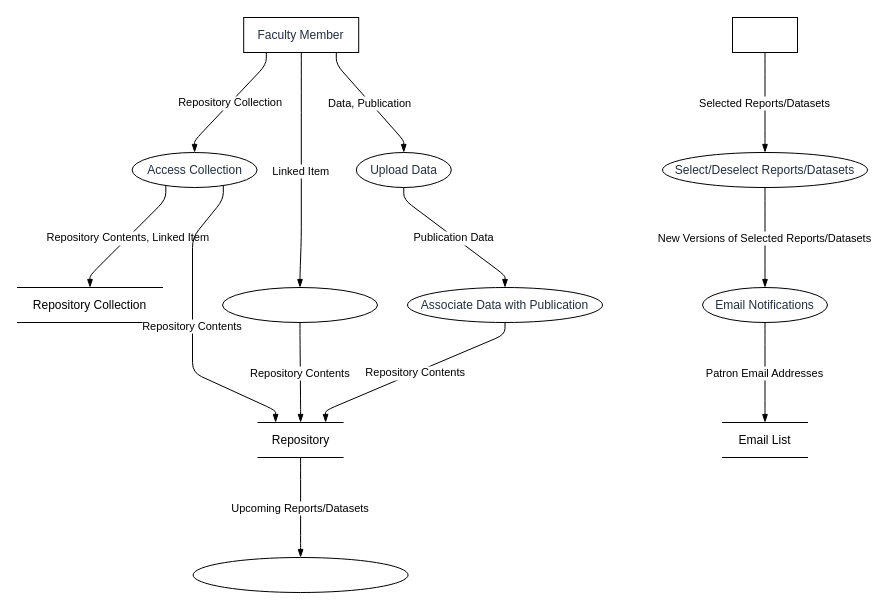
Some shapes in this 890 by 610 pixel diagram are drawn without their labels. The shapes that lost their labels are listed below. From the top down, each one's centre as x and y in pixels, then its label:
At (x=765, y=34): "Patron".
At (x=300, y=304): "Direct Students to Item".
At (x=300, y=574): "New Reports/Datasets Notification".
